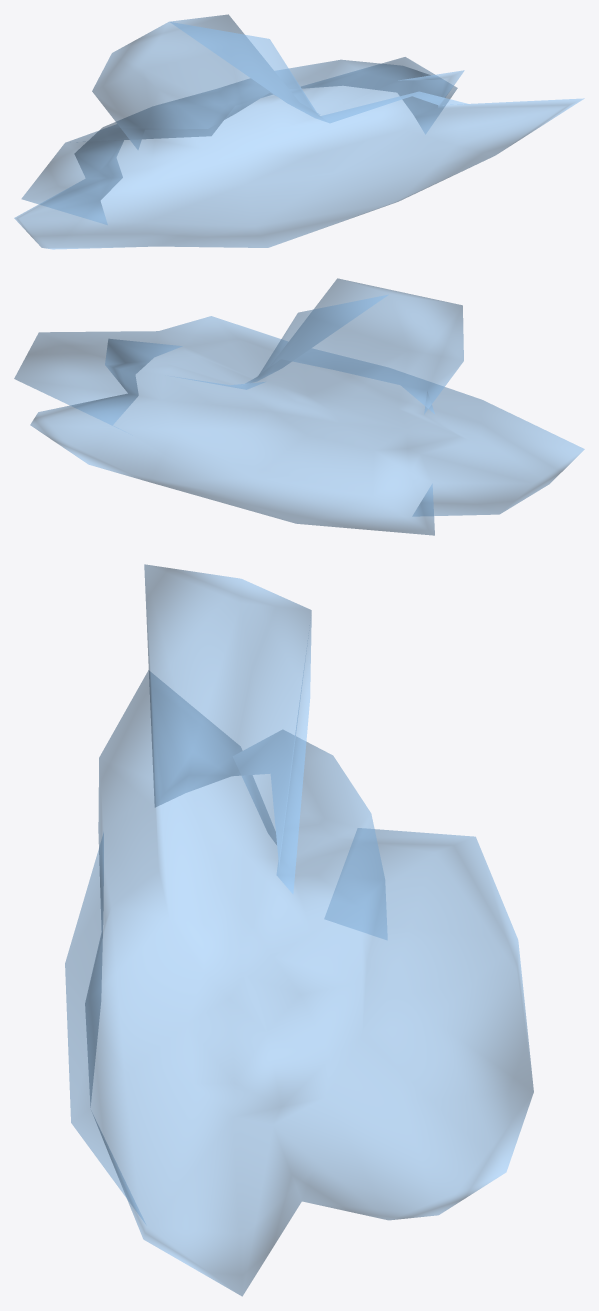
The model's file is tballistics_shield.gltf.
3 views of the same model, one above another, from view 1: azimuth 30°, elevation 25°; view 2: azimuth 150°, elevation 25°; view 3: azimuth 270°, elevation 25° (orthographic). The views are drawn at different scales.
Parts seen in each view (by area): view 1: tballistics.shield; view 2: tballistics.shield; view 3: tballistics.shield.
Boxes of the visible parts, bbox=[...] form: tballistics.shield: bbox=[14, 14, 584, 249]; tballistics.shield: bbox=[14, 278, 584, 535]; tballistics.shield: bbox=[65, 564, 533, 1296].
Size of the model in its own units: 21.79 by 8.17 by 8.08.
